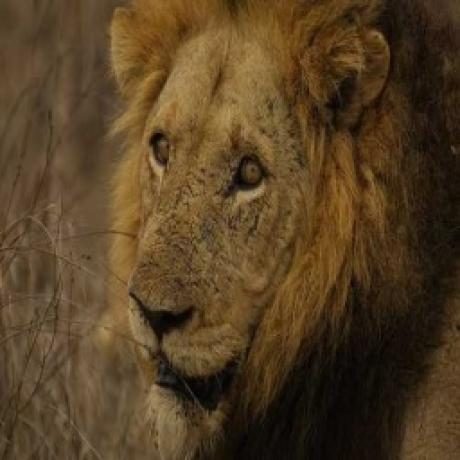Lion: (105, 0, 460, 460)
